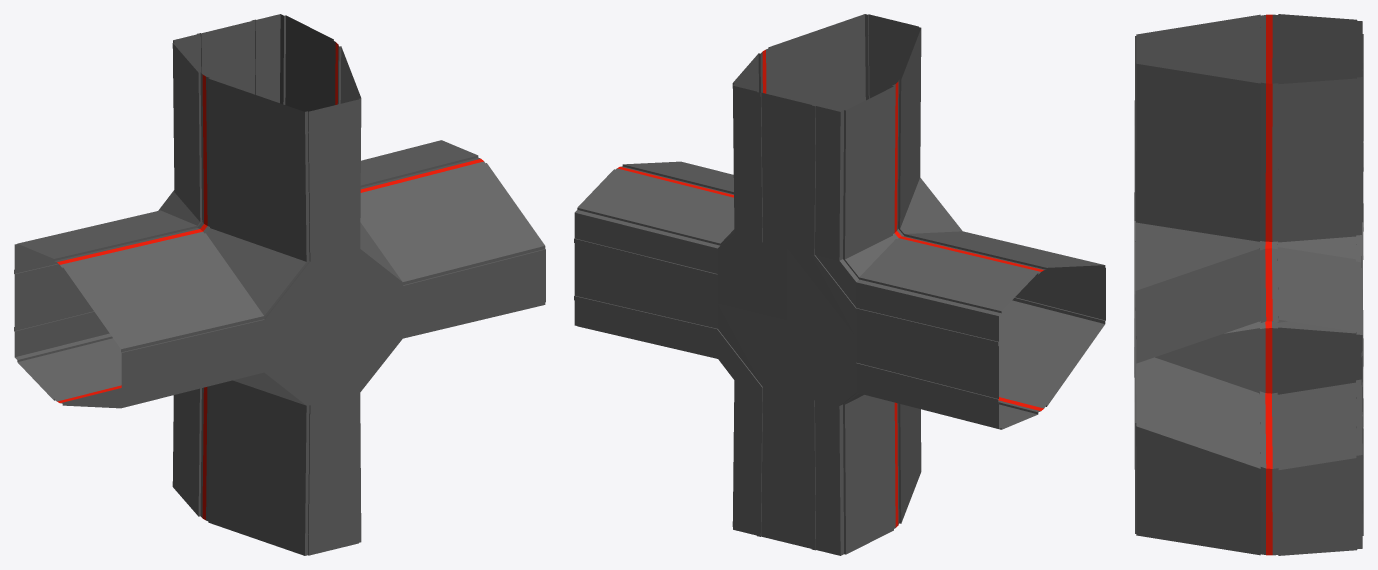
Rendered from HallJunction.fbx.
The picture shows the model from 3 angles, left to right: view 1: azimuth 30°, elevation 25°; view 2: azimuth 150°, elevation 25°; view 3: azimuth 270°, elevation 25°; orthographic projection. The views are drawn at different scales.
Parts seen in each view (by area): view 1: Junction; view 2: Junction; view 3: Junction.
Boxes of the visible parts, x1,y1,x2,y2 form: Junction: (14, 14, 545, 555); Junction: (574, 14, 1105, 555); Junction: (1134, 14, 1363, 555).
Bounding box in the file's own units: 600 × 600 × 265.
